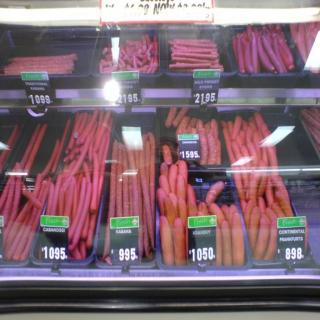Carrot: (160, 147, 196, 253)
